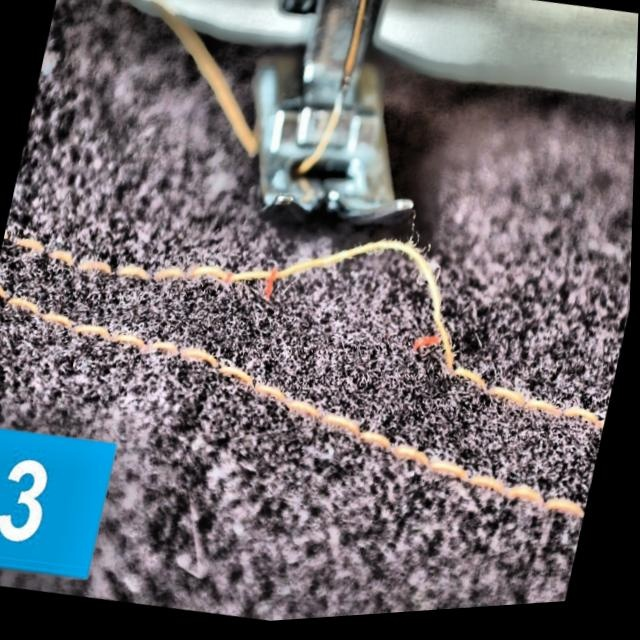Stitch: (164, 173, 542, 452)
